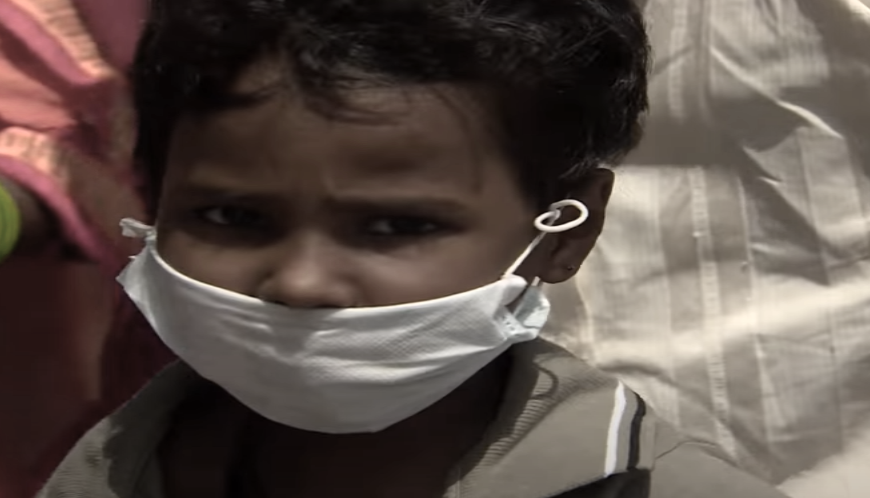mask_weared_incorrect: (113, 7, 604, 436)
